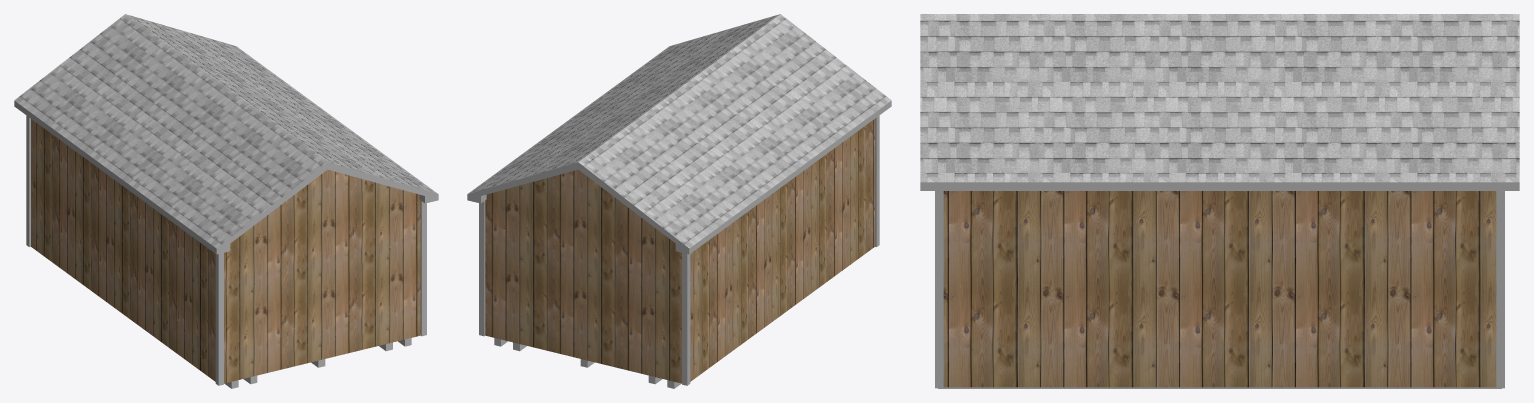
Rendered from Classic A-Frame_10x16.obj.
3 views of the same model, side by side, from view 1: azimuth 30°, elevation 25°; view 2: azimuth 150°, elevation 25°; view 3: azimuth 270°, elevation 25° (orthographic). The views are drawn at different scales.
Visible parts, largest first — view 1: Shed, Roof, Sides, Trim, Floor; view 2: Shed, Roof, Sides, Trim, Floor; view 3: Shed, Roof, Sides, Trim, Floor.
Boxes of the visible parts, <box> form: Shed: <box>31,119,420,383</box>; Roof: <box>14,14,437,248</box>; Sides: <box>14,101,438,254</box>; Trim: <box>26,115,426,385</box>; Floor: <box>224,338,411,388</box>; Shed: <box>485,119,874,383</box>; Roof: <box>468,14,891,248</box>; Sides: <box>467,101,891,254</box>; Trim: <box>479,115,879,385</box>; Floor: <box>494,338,681,388</box>; Shed: <box>943,191,1496,387</box>; Roof: <box>920,14,1519,182</box>; Sides: <box>920,182,1519,190</box>; Trim: <box>935,191,1504,388</box>; Floor: <box>938,387,1501,388</box>.
Size of the model in its own units: 3.29 by 2.96 by 5.18.
